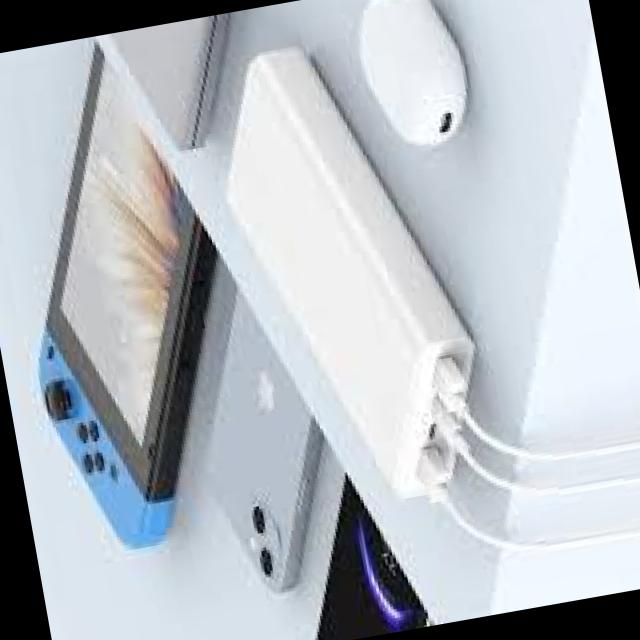power_bank: (198, 17, 506, 516)
